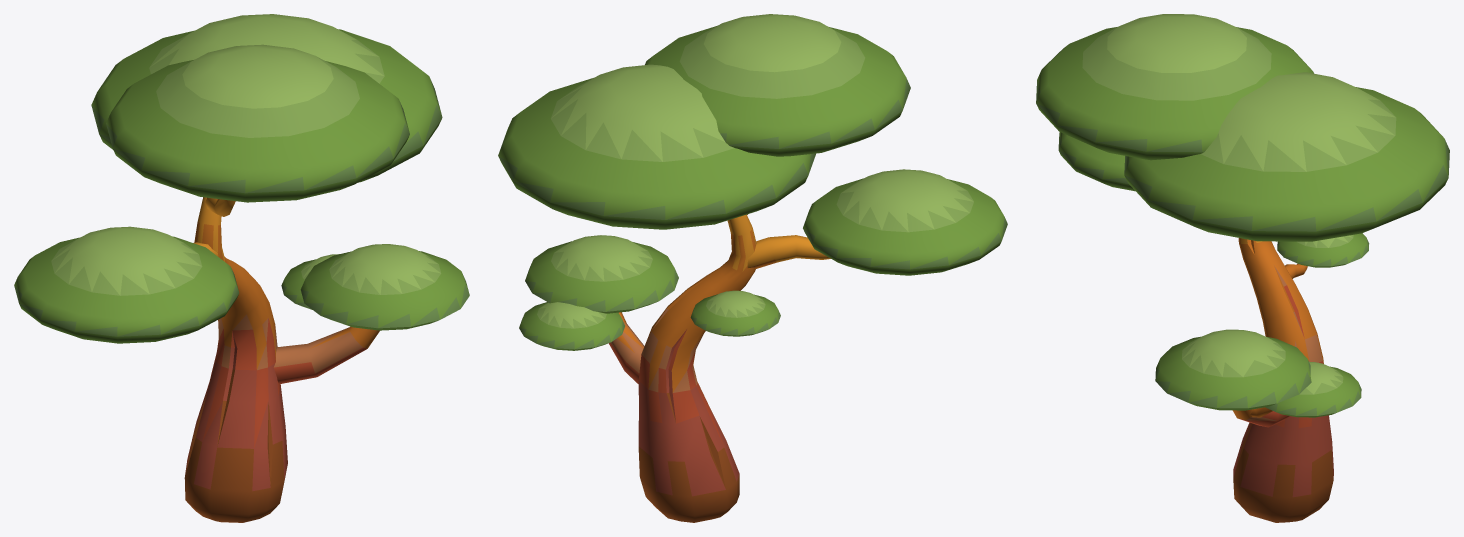
File: itch_kaykit_forest_tree_3_c_color1.glb
3 renders of one model, left to right at view 1: azimuth 30°, elevation 25°; view 2: azimuth 150°, elevation 25°; view 3: azimuth 270°, elevation 25°, orthographic. The views are drawn at different scales.
Visible parts, largest first — view 1: Tree_3_C_Color1; view 2: Tree_3_C_Color1; view 3: Tree_3_C_Color1.
Part boxes in pixels (x1,y1,x2,y2): Tree_3_C_Color1: (14, 14, 469, 522); Tree_3_C_Color1: (498, 14, 1007, 522); Tree_3_C_Color1: (1036, 14, 1449, 522).
Size of the model in its own units: 1.22 by 1.25 by 1.
